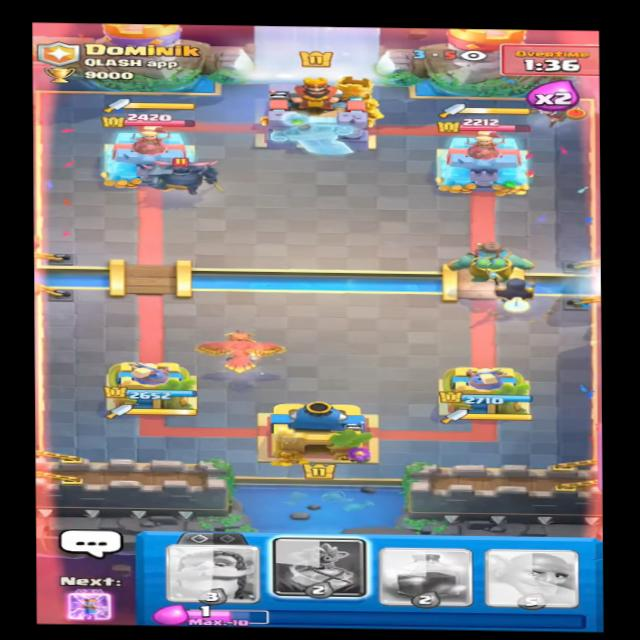bandit: (525, 101, 573, 125)
pekka: (135, 147, 222, 196)
